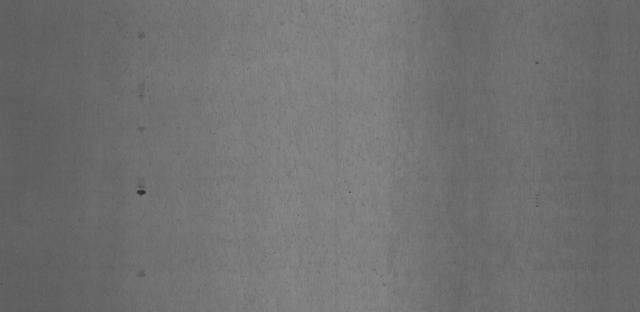oil_spot: (133, 79, 148, 100), (135, 177, 149, 197), (135, 268, 147, 281), (138, 123, 149, 137), (138, 25, 146, 41)
